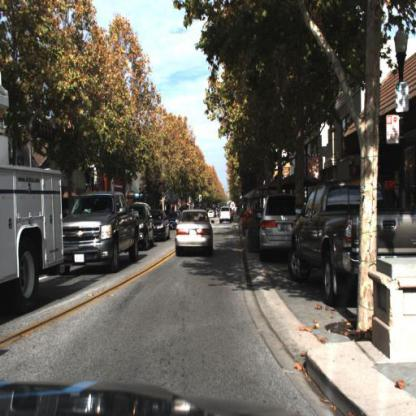car: (288, 183, 415, 303), (64, 189, 141, 274), (172, 207, 218, 263), (258, 191, 292, 260), (138, 202, 156, 254), (155, 206, 172, 246), (219, 204, 234, 230)
truck: (2, 64, 66, 314)
